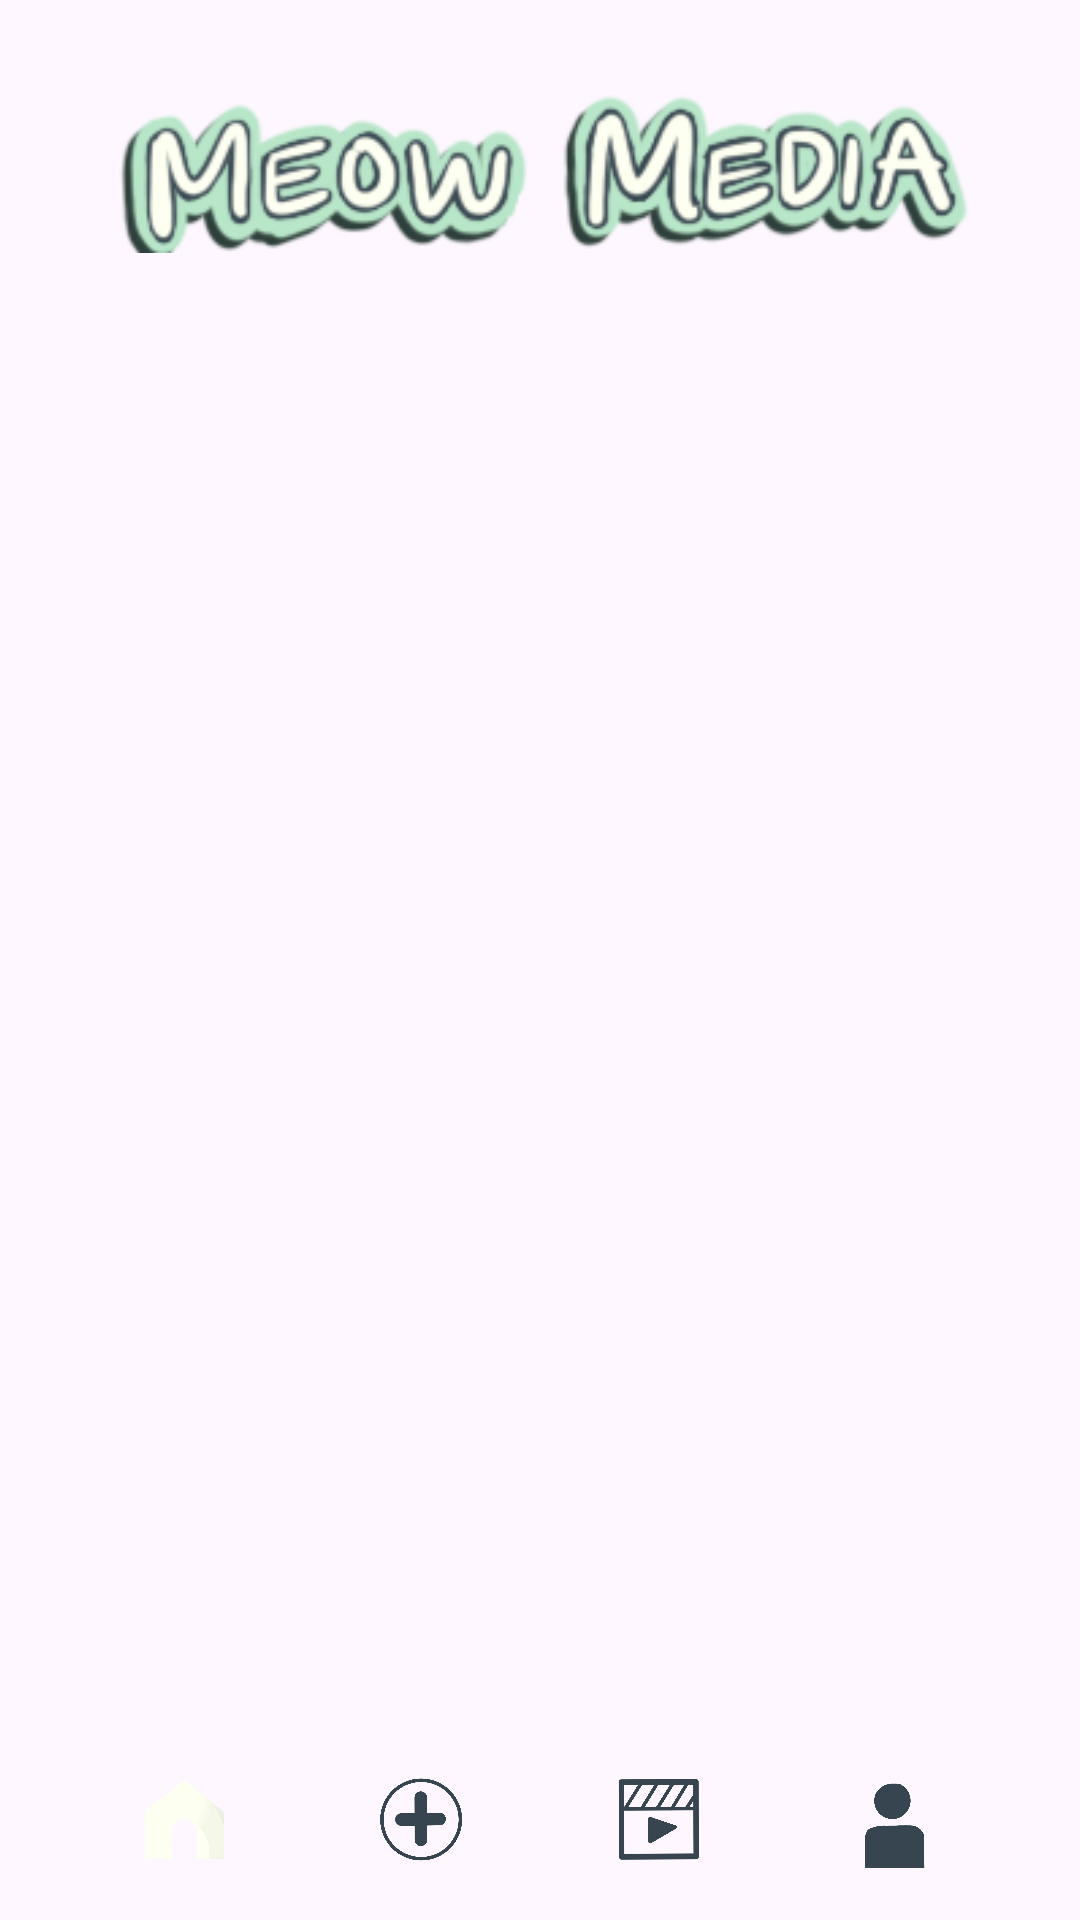

Icon bounding boxes for this 1080w x 1920h phone screenshot, format (x1, y1, x2, y2):
add: (380, 1778, 462, 1861)
profile: (865, 1783, 925, 1868)
reels: (619, 1779, 699, 1860)
